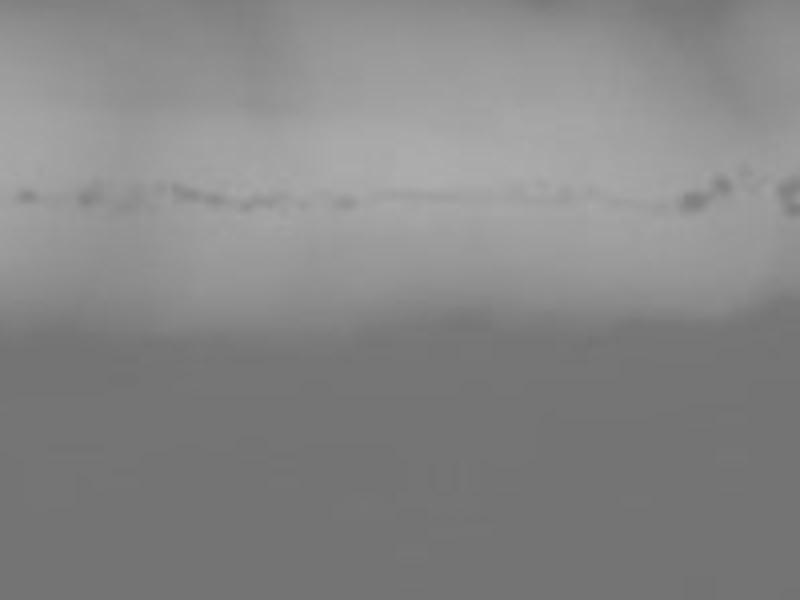defect: (679, 187, 708, 216), (237, 194, 283, 211), (777, 180, 798, 216), (109, 194, 140, 216), (171, 182, 204, 201), (76, 186, 102, 204), (337, 193, 358, 213), (553, 184, 573, 205), (152, 177, 172, 196), (715, 175, 732, 196), (743, 180, 764, 196), (734, 161, 753, 178), (581, 180, 598, 199), (18, 189, 37, 203), (208, 192, 225, 207), (534, 174, 549, 191), (298, 198, 311, 211)
